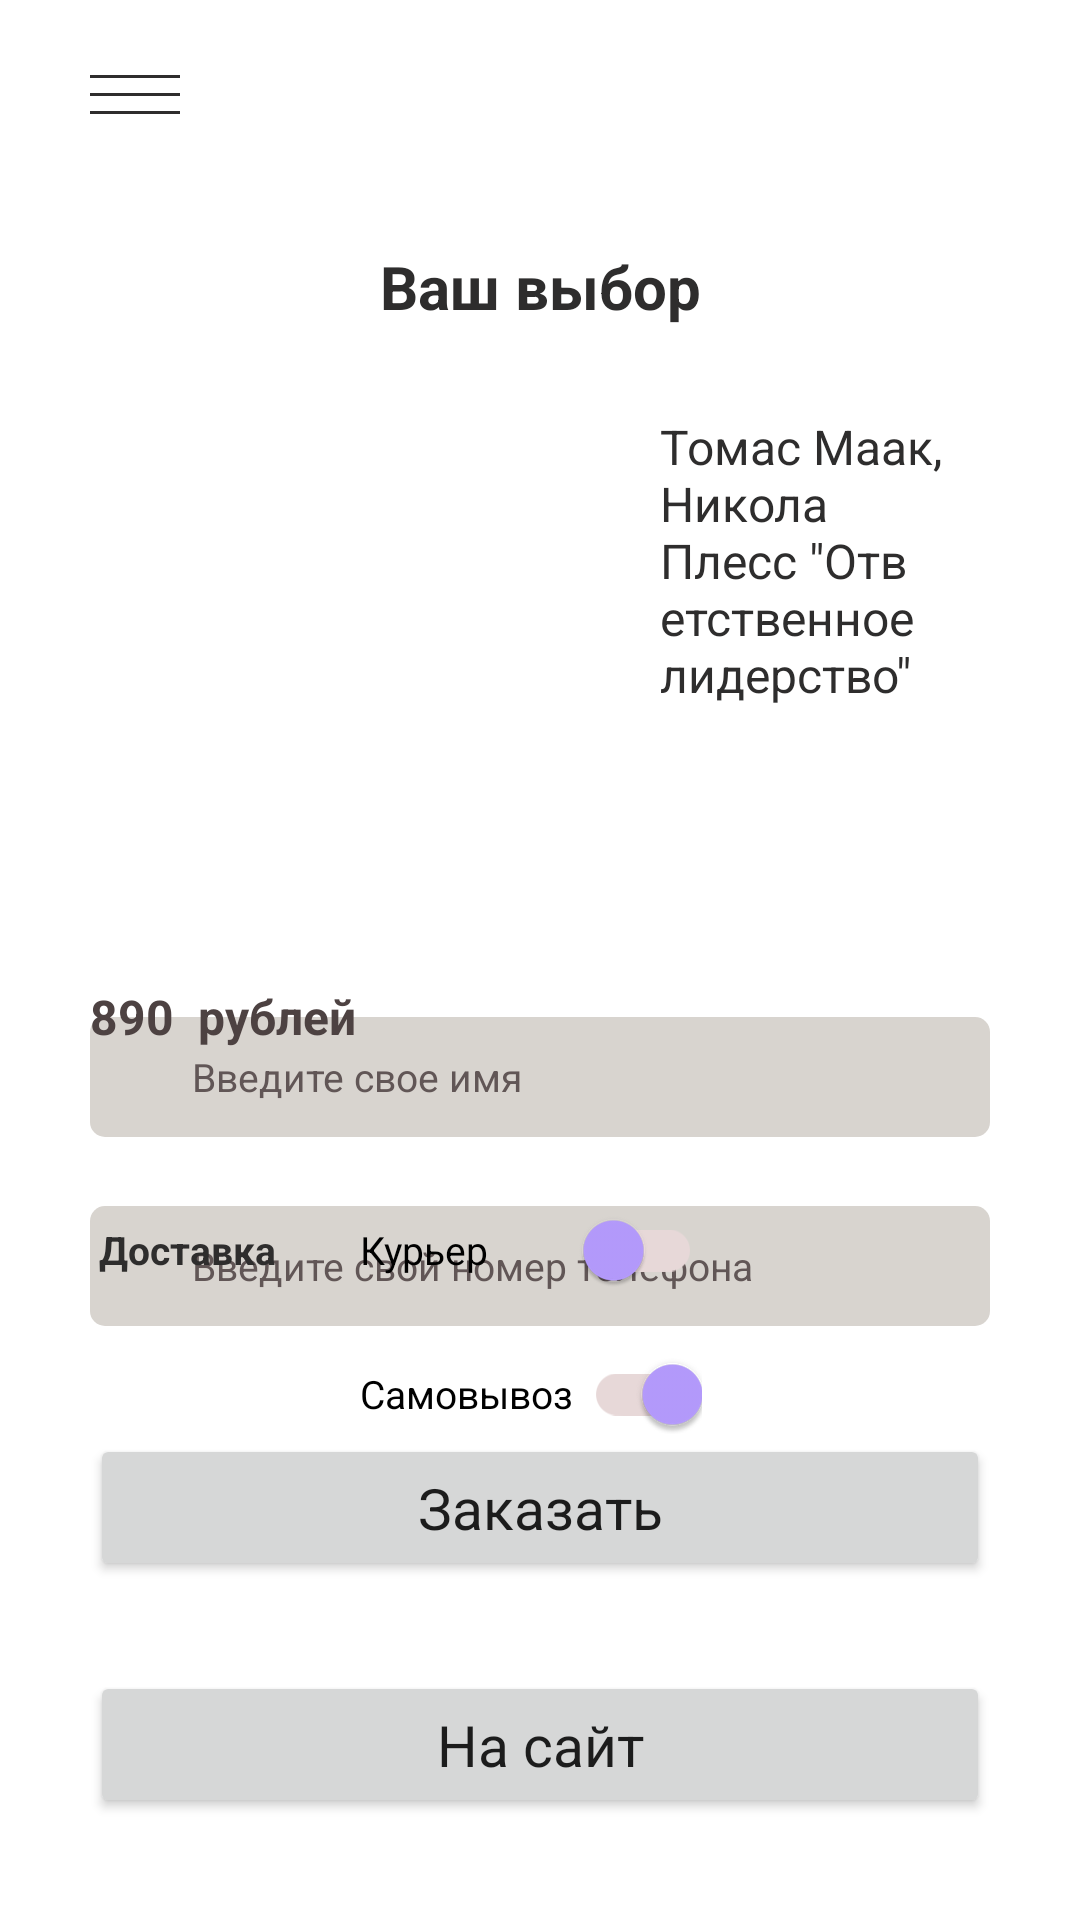

Where to tap for icons on this 1080*1920 app screen, as (x,y):
Меню: (135,94)
